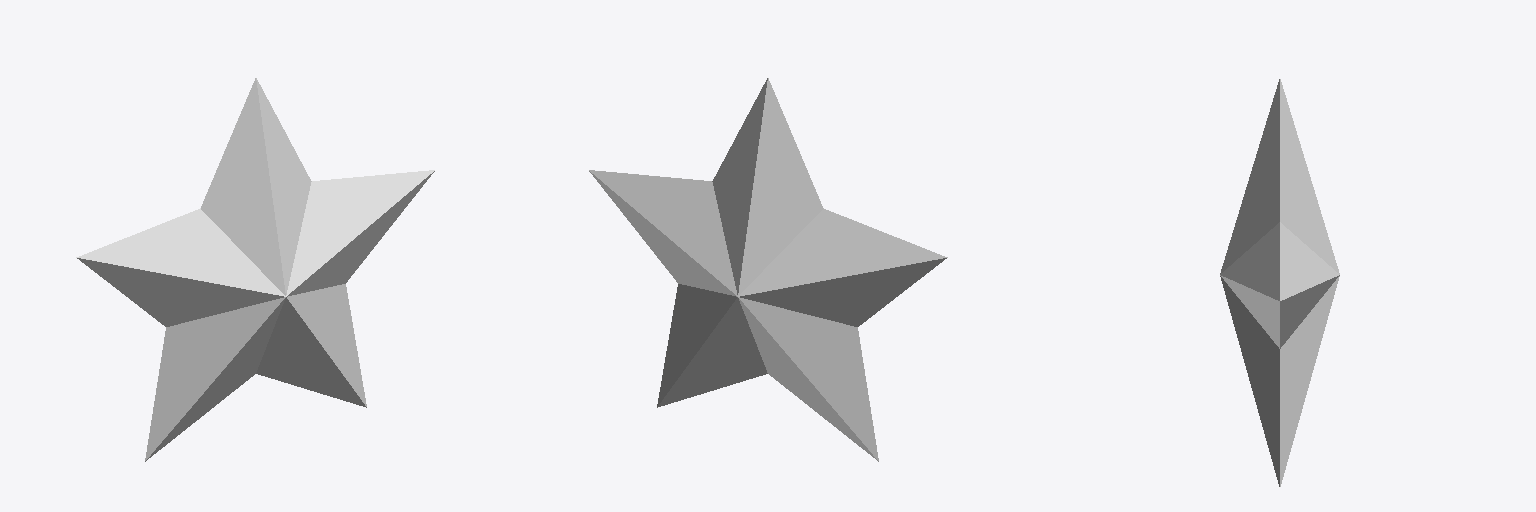
The model's file is Star_W.obj.
The picture shows the model from 3 angles: view 1: azimuth 30°, elevation 25°; view 2: azimuth 150°, elevation 25°; view 3: azimuth 270°, elevation 25°; orthographic projection.
Parts seen in each view (by area): view 1: Star_W; view 2: Star_W; view 3: Star_W.
Part boxes in pixels (x1,y1,x2,y2): Star_W: (76, 78, 434, 461); Star_W: (589, 78, 947, 461); Star_W: (1220, 79, 1339, 486).
Bounding box in the file's own units: 19.02 × 18.09 × 5.51.